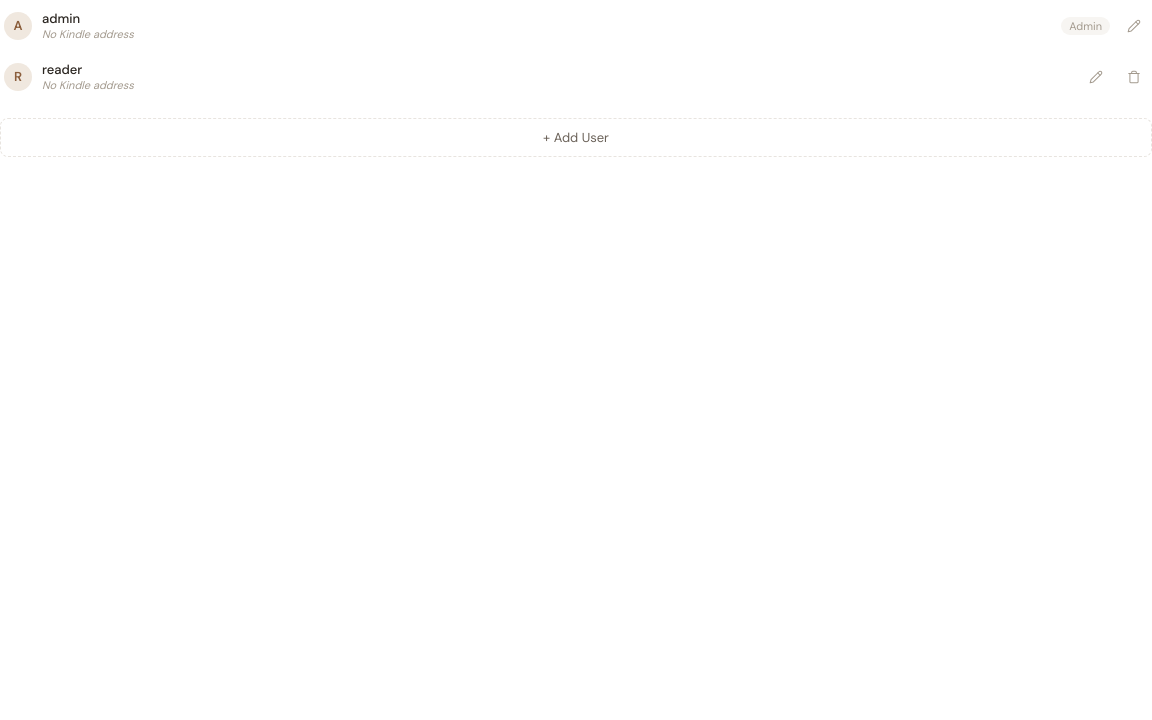
Test: AdminUsersScreen › deletes another account after confirming, and keeps the caller
Expected: the text "reader" is shown, 42,61 -> 82,78
Click the button named "Delete reader" at (1134, 76), box 1120,62 -> 1148,90
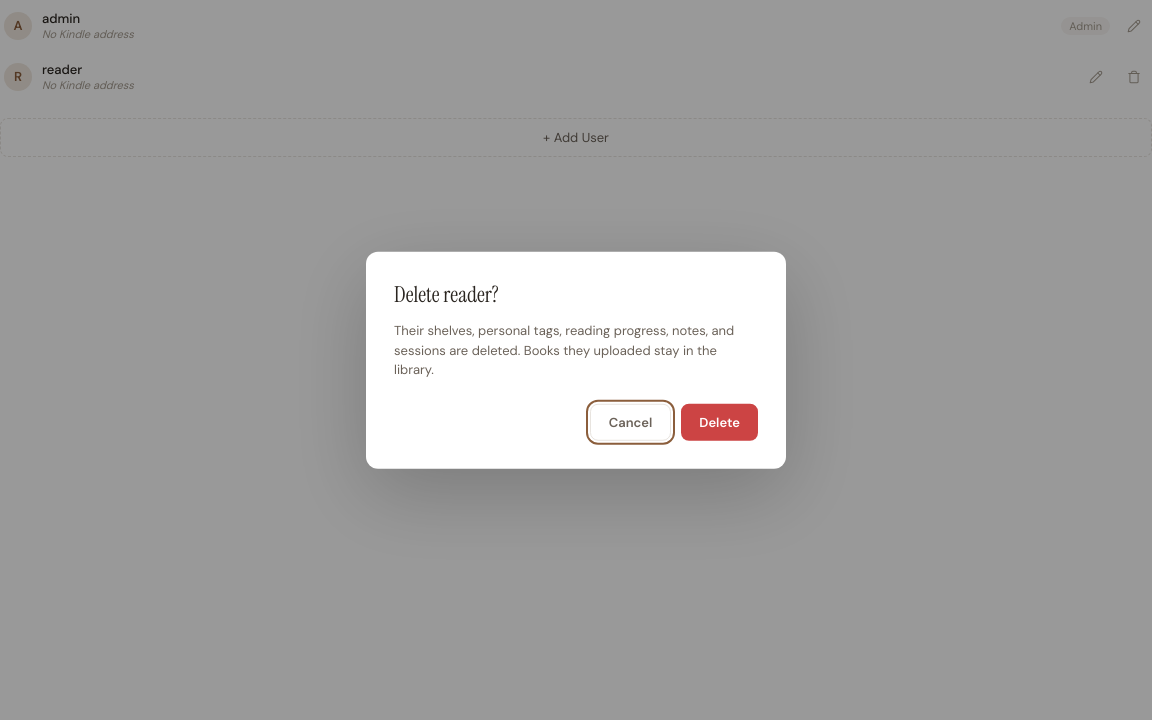
Now the text "Their shelves, personal tags, reading progress, notes, and sessions" is shown, box 394,322 -> 734,378
Click the button "Delete" at (720, 422), box 681,403 -> 758,440
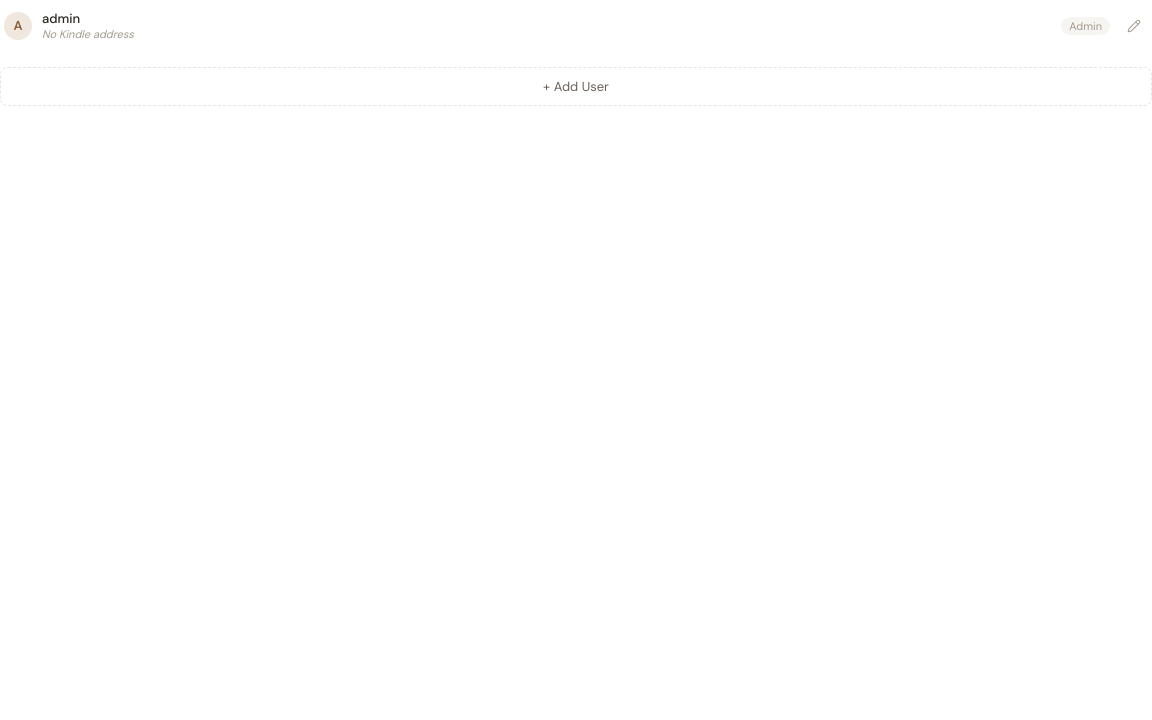
Now the text "reader" is gone
